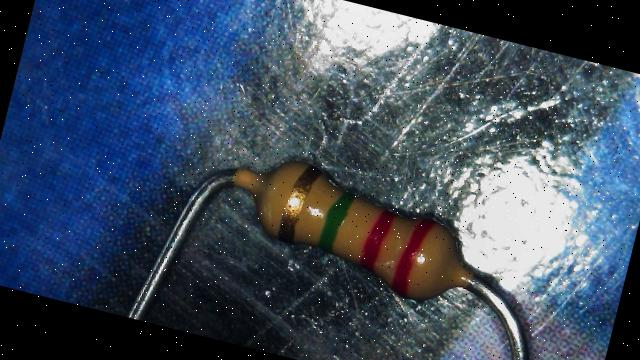gold: (276, 161, 322, 244)
green: (316, 188, 357, 256)
red: (390, 215, 433, 299), (358, 206, 396, 274)
resistor: (234, 130, 492, 321)
